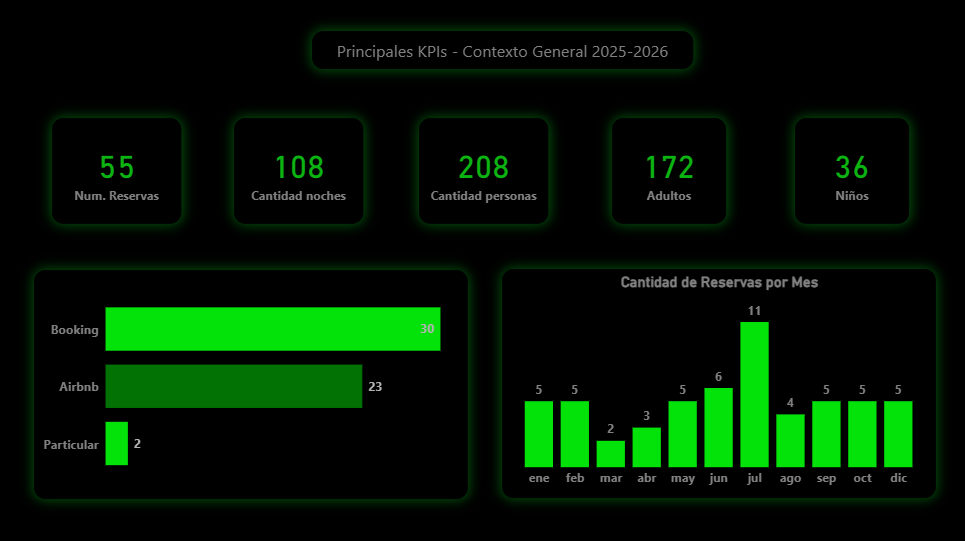

This screenshot's page, from the dashboard's own definition file:
{"tool":"powerbi","page":{"name":"KPI's","canvas":[1280,720],"ordinal":0},"visuals":[{"type":"card","fields":{"Values":["Medidas.Cantidad personas"]},"box":[554.3,160.9,169.7,139.4],"z":0},{"type":"card","fields":{"Values":["Medidas.Niños"]},"box":[1048.2,160.9,149.5,139.4],"z":1000},{"type":"card","fields":{"Values":["Medidas.Adultos"]},"box":[808,160.9,149.5,139.4],"z":2000},{"type":"card","title":"Numero de reservas","fields":{"Values":["Medidas.Num. Reservas"]},"box":[72.2,160.9,169.7,139.4],"z":3000},{"type":"card","fields":{"Values":["Medidas.Cantidad noches"]},"box":[310.8,160.9,169.7,139.4],"z":4000},{"type":"actionButton","box":[346,566.1,100.8,40.3],"z":5000},{"type":"barChart","fields":{"Category":["Reservas.Plataforma"],"Y":["Medidas.Num. Reservas"]},"box":[48.7,359.5,570,300.7],"z":6000},{"type":"columnChart","title":"Cantidad de Reservas por Mes","fields":{"Y":["CountNonNull(Reservas.ReservaID)"],"Category":["Calendario.Mes"]},"box":[663.4,359.2,569.8,301.4],"z":7000},{"type":"textbox","box":[413.2,45.4,500.6,50.4],"z":8000}]}

Visuals, with their boxes in screenshot pixels (x1, y1, x2, y2), scaled from the page's 1280x720 canvas onto the 965x541 screenshot:
card - Medidas.Cantidad personas: box(418, 121, 546, 226)
card - Medidas.Niños: box(790, 121, 903, 226)
card - Medidas.Adultos: box(609, 121, 722, 226)
"Numero de reservas" card: box(54, 121, 182, 226)
card - Medidas.Cantidad noches: box(234, 121, 362, 226)
actionButton: box(261, 425, 337, 456)
barChart - Reservas.Plataforma x Medidas.Num. Reservas: box(37, 270, 466, 496)
"Cantidad de Reservas por Mes" columnChart: box(500, 270, 930, 496)
textbox: box(312, 34, 689, 72)
